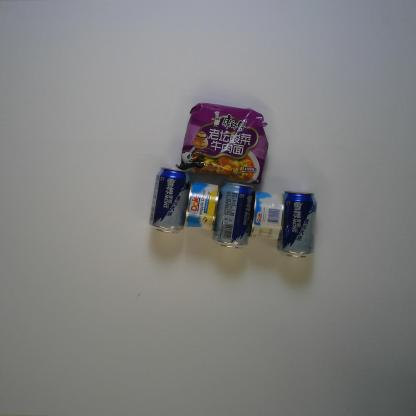Alcohol: (211, 179, 256, 250), (148, 166, 192, 236), (275, 190, 318, 260)
Canned Food: (184, 180, 219, 233), (250, 191, 285, 240)
Instant Noodles: (174, 100, 270, 188)
